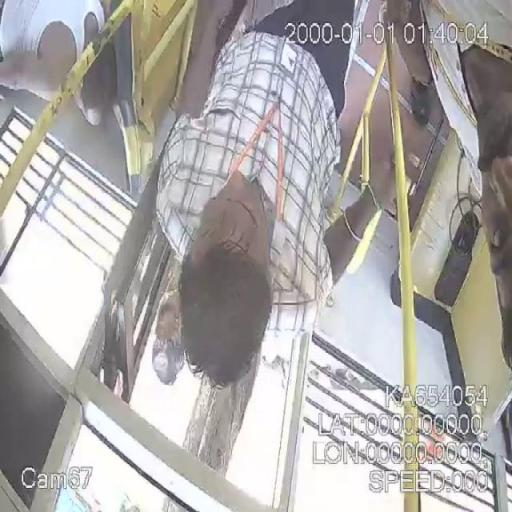persona: (150, 26, 346, 478), (373, 1, 512, 336), (0, 6, 146, 129)
